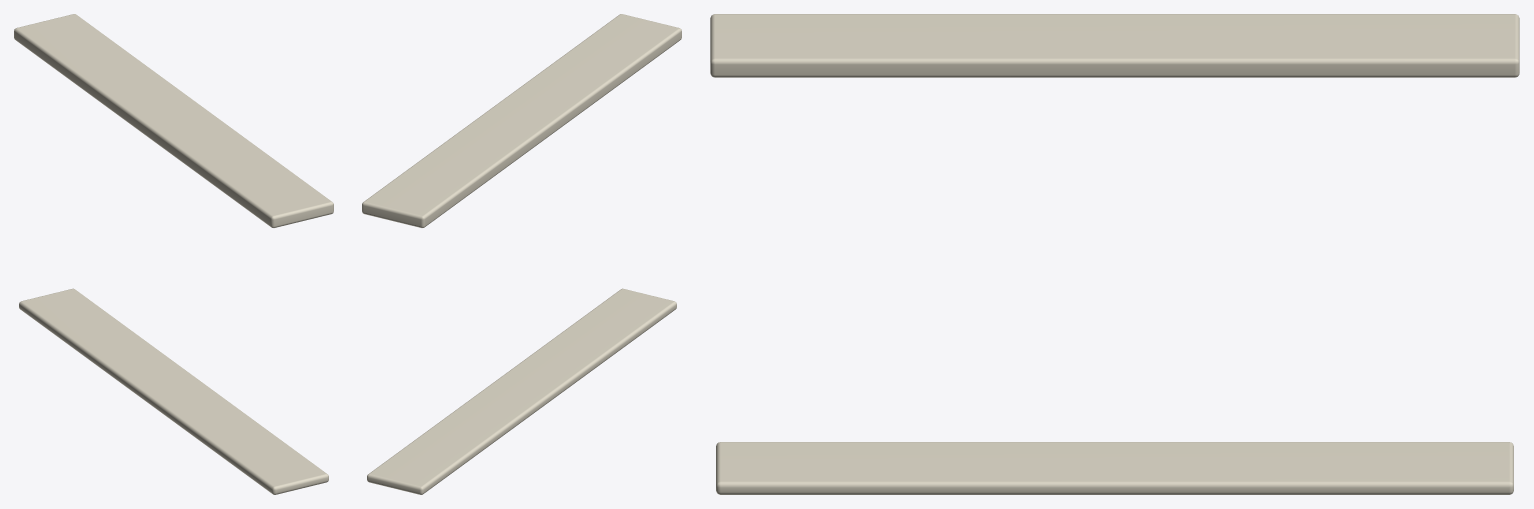
File: Architecture015.fbx
3 views of the same model, side by side, from view 1: azimuth 30°, elevation 25°; view 2: azimuth 150°, elevation 25°; view 3: azimuth 270°, elevation 25° (orthographic). The views are drawn at different scales.
Visible parts, largest first — view 1: Architecture015; view 2: Architecture015; view 3: Architecture015.
Part boxes in pixels (x1,y1,x2,y2): Architecture015: (14,14,333,494); Architecture015: (362,14,681,494); Architecture015: (710,14,1519,494).
Bounding box in the file's own units: 35 × 150 × 250.
